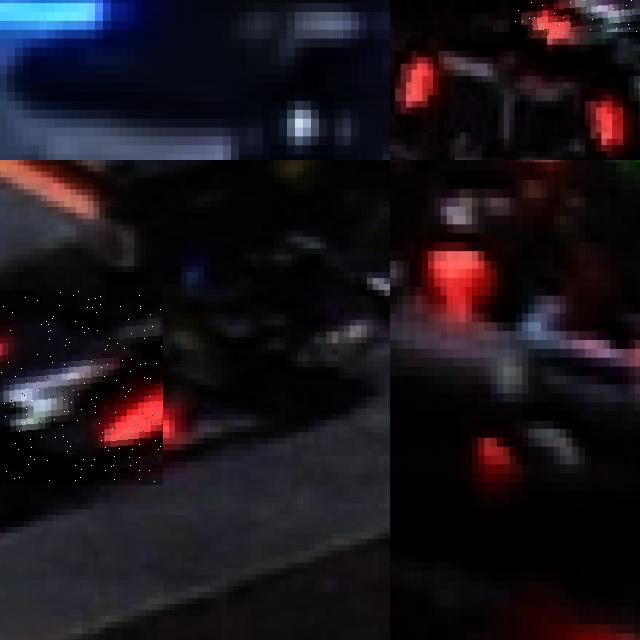R1: (574, 48, 640, 160), (390, 7, 452, 126), (511, 0, 640, 38)
R4: (0, 289, 163, 485)
